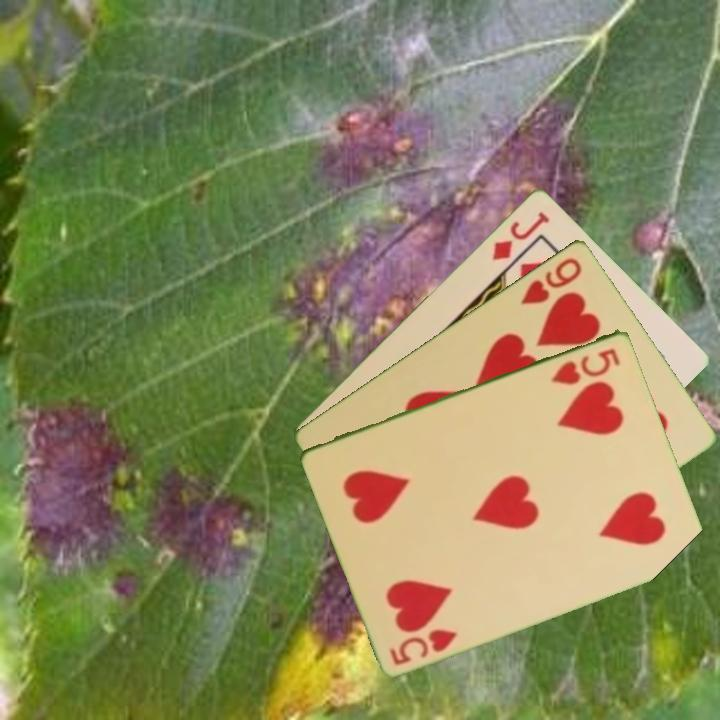5h: (548, 344, 623, 388), (386, 624, 460, 668)
9h: (517, 253, 585, 307)
Jd: (488, 207, 553, 263)
